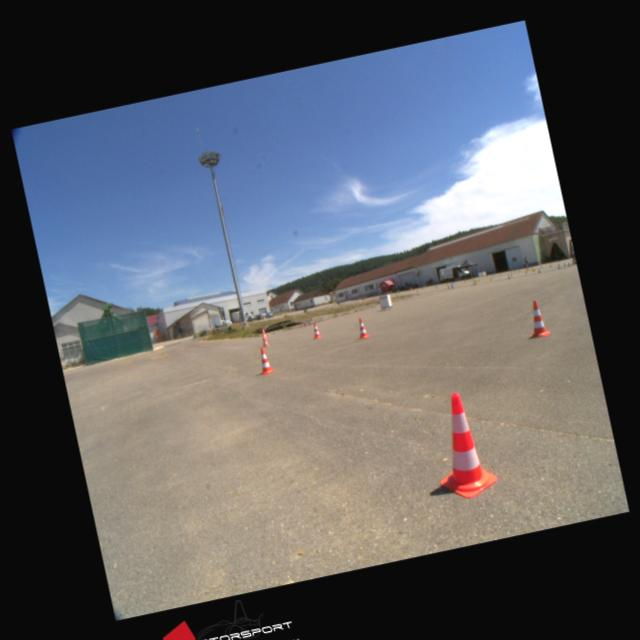large_orange_cone: (422, 388, 497, 498), (524, 298, 550, 338), (254, 346, 274, 374), (355, 316, 368, 338), (310, 320, 321, 338), (258, 331, 270, 347), (262, 326, 268, 338)
